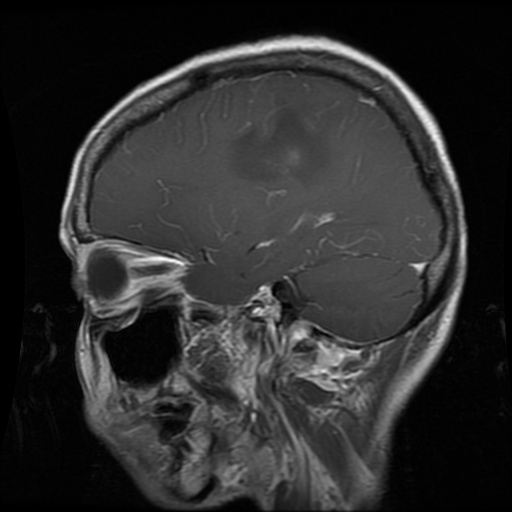glioma: (231, 95, 324, 185)
